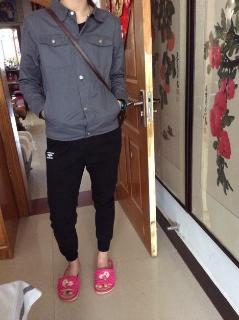long sleeve top: (18, 0, 128, 141)
trousers: (46, 123, 122, 261)
